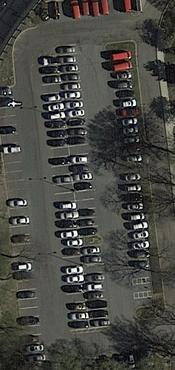parkingspot: (56, 42, 111, 330), (36, 55, 91, 332), (0, 84, 48, 366), (106, 50, 153, 281), (38, 0, 134, 25), (133, 296, 155, 310), (132, 282, 154, 294)
